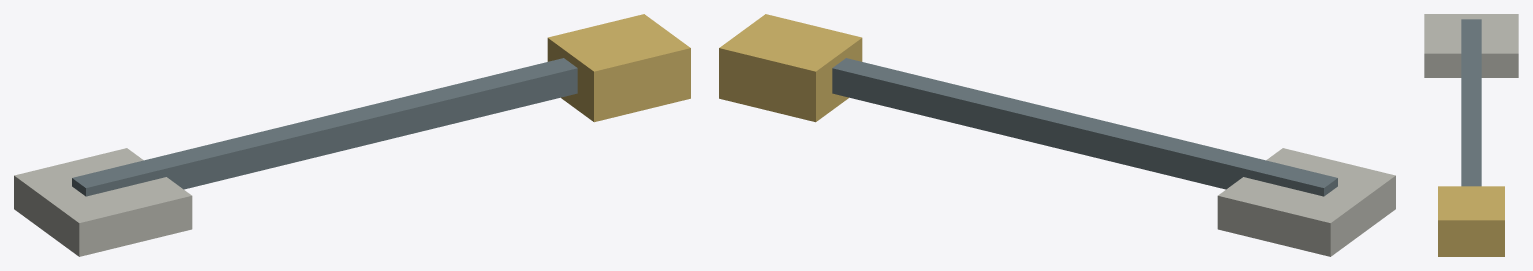
Rendered from zombie-quarantine-streets-collapsed-streetlamp-f114aaf7__19356.glb.
3 renders of one model, left to right at view 1: azimuth 30°, elevation 25°; view 2: azimuth 150°, elevation 25°; view 3: azimuth 270°, elevation 25°, orthographic. The views are drawn at different scales.
Parts seen in each view (by area): view 1: collapsed-streetlamp; view 2: collapsed-streetlamp; view 3: collapsed-streetlamp.
Part boxes in pixels (x1,y1,x2,y2): collapsed-streetlamp: [14, 14, 690, 256]; collapsed-streetlamp: [719, 14, 1395, 256]; collapsed-streetlamp: [1424, 14, 1518, 256].
Bounding box in the file's own units: 3.85 × 0.3 × 0.7.
